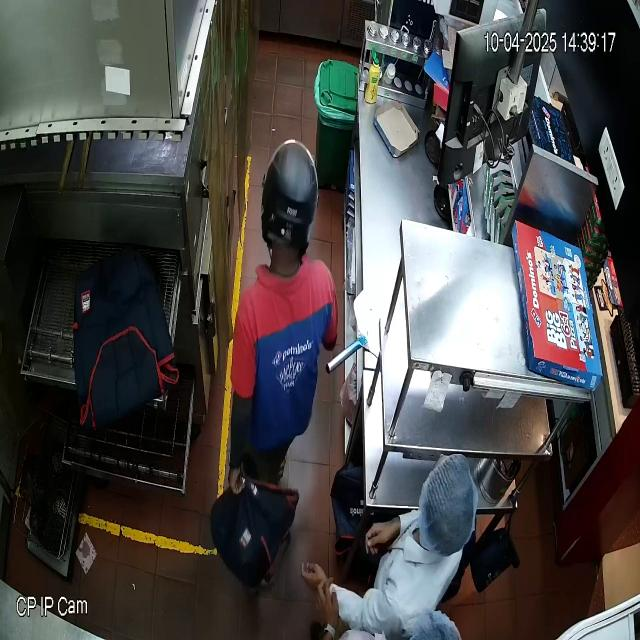helmet: (262, 139, 319, 276)
no_helmet: (418, 453, 479, 554)
